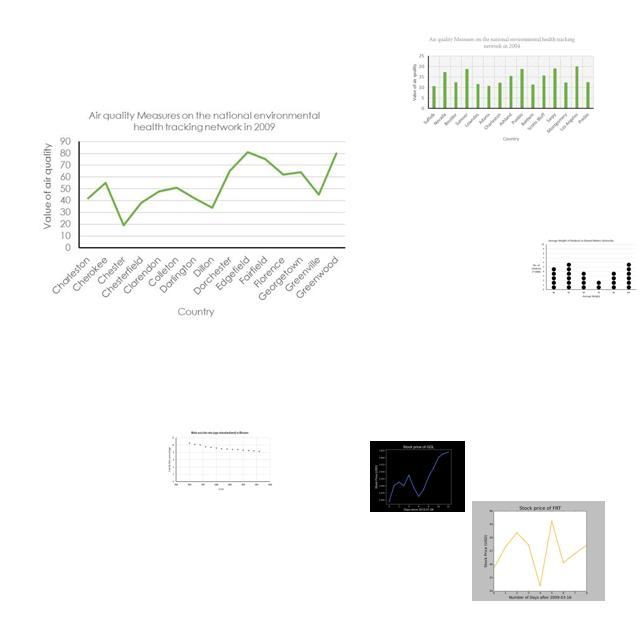Graph: (39, 104, 353, 323), (406, 33, 596, 145), (472, 501, 605, 601), (529, 237, 638, 300), (370, 441, 465, 512), (167, 431, 273, 491)
